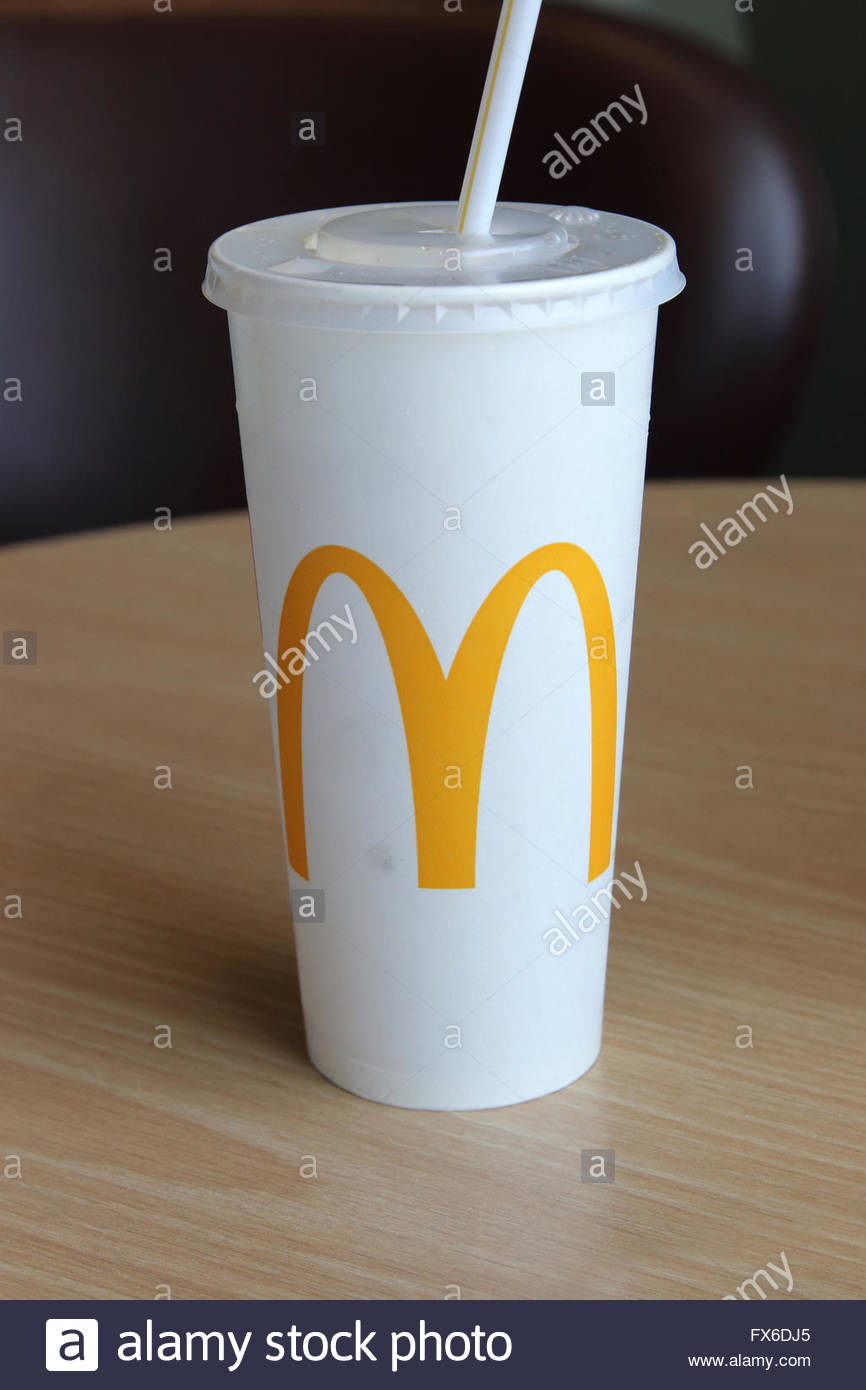mcdonalds: (267, 533, 621, 905)
